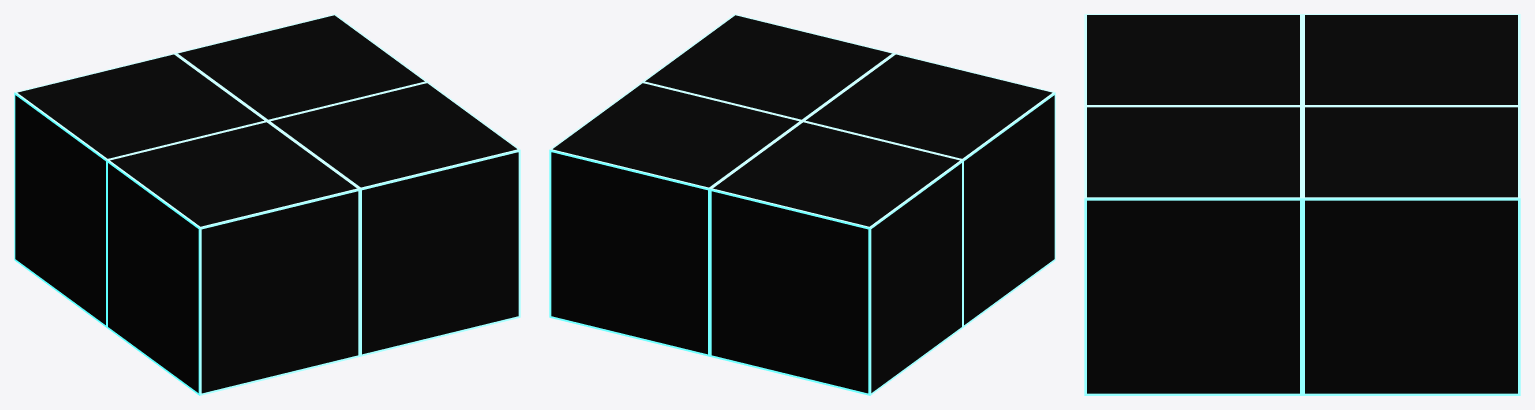
File: 4lu_full_isikli_kup.fbx
The picture shows the model from 3 angles, left to right: view 1: azimuth 30°, elevation 25°; view 2: azimuth 150°, elevation 25°; view 3: azimuth 270°, elevation 25°; orthographic projection. The views are drawn at different scales.
Visible parts, largest first — view 1: Cube.004; view 2: Cube.004; view 3: Cube.004.
Part boxes in pixels (x1=…): Cube.004: x1=14, y1=14, x2=520, y2=395; Cube.004: x1=549, y1=14, x2=1055, y2=395; Cube.004: x1=1084, y1=14, x2=1520, y2=395.
Size of the model in its own units: 403 by 202 by 403.
